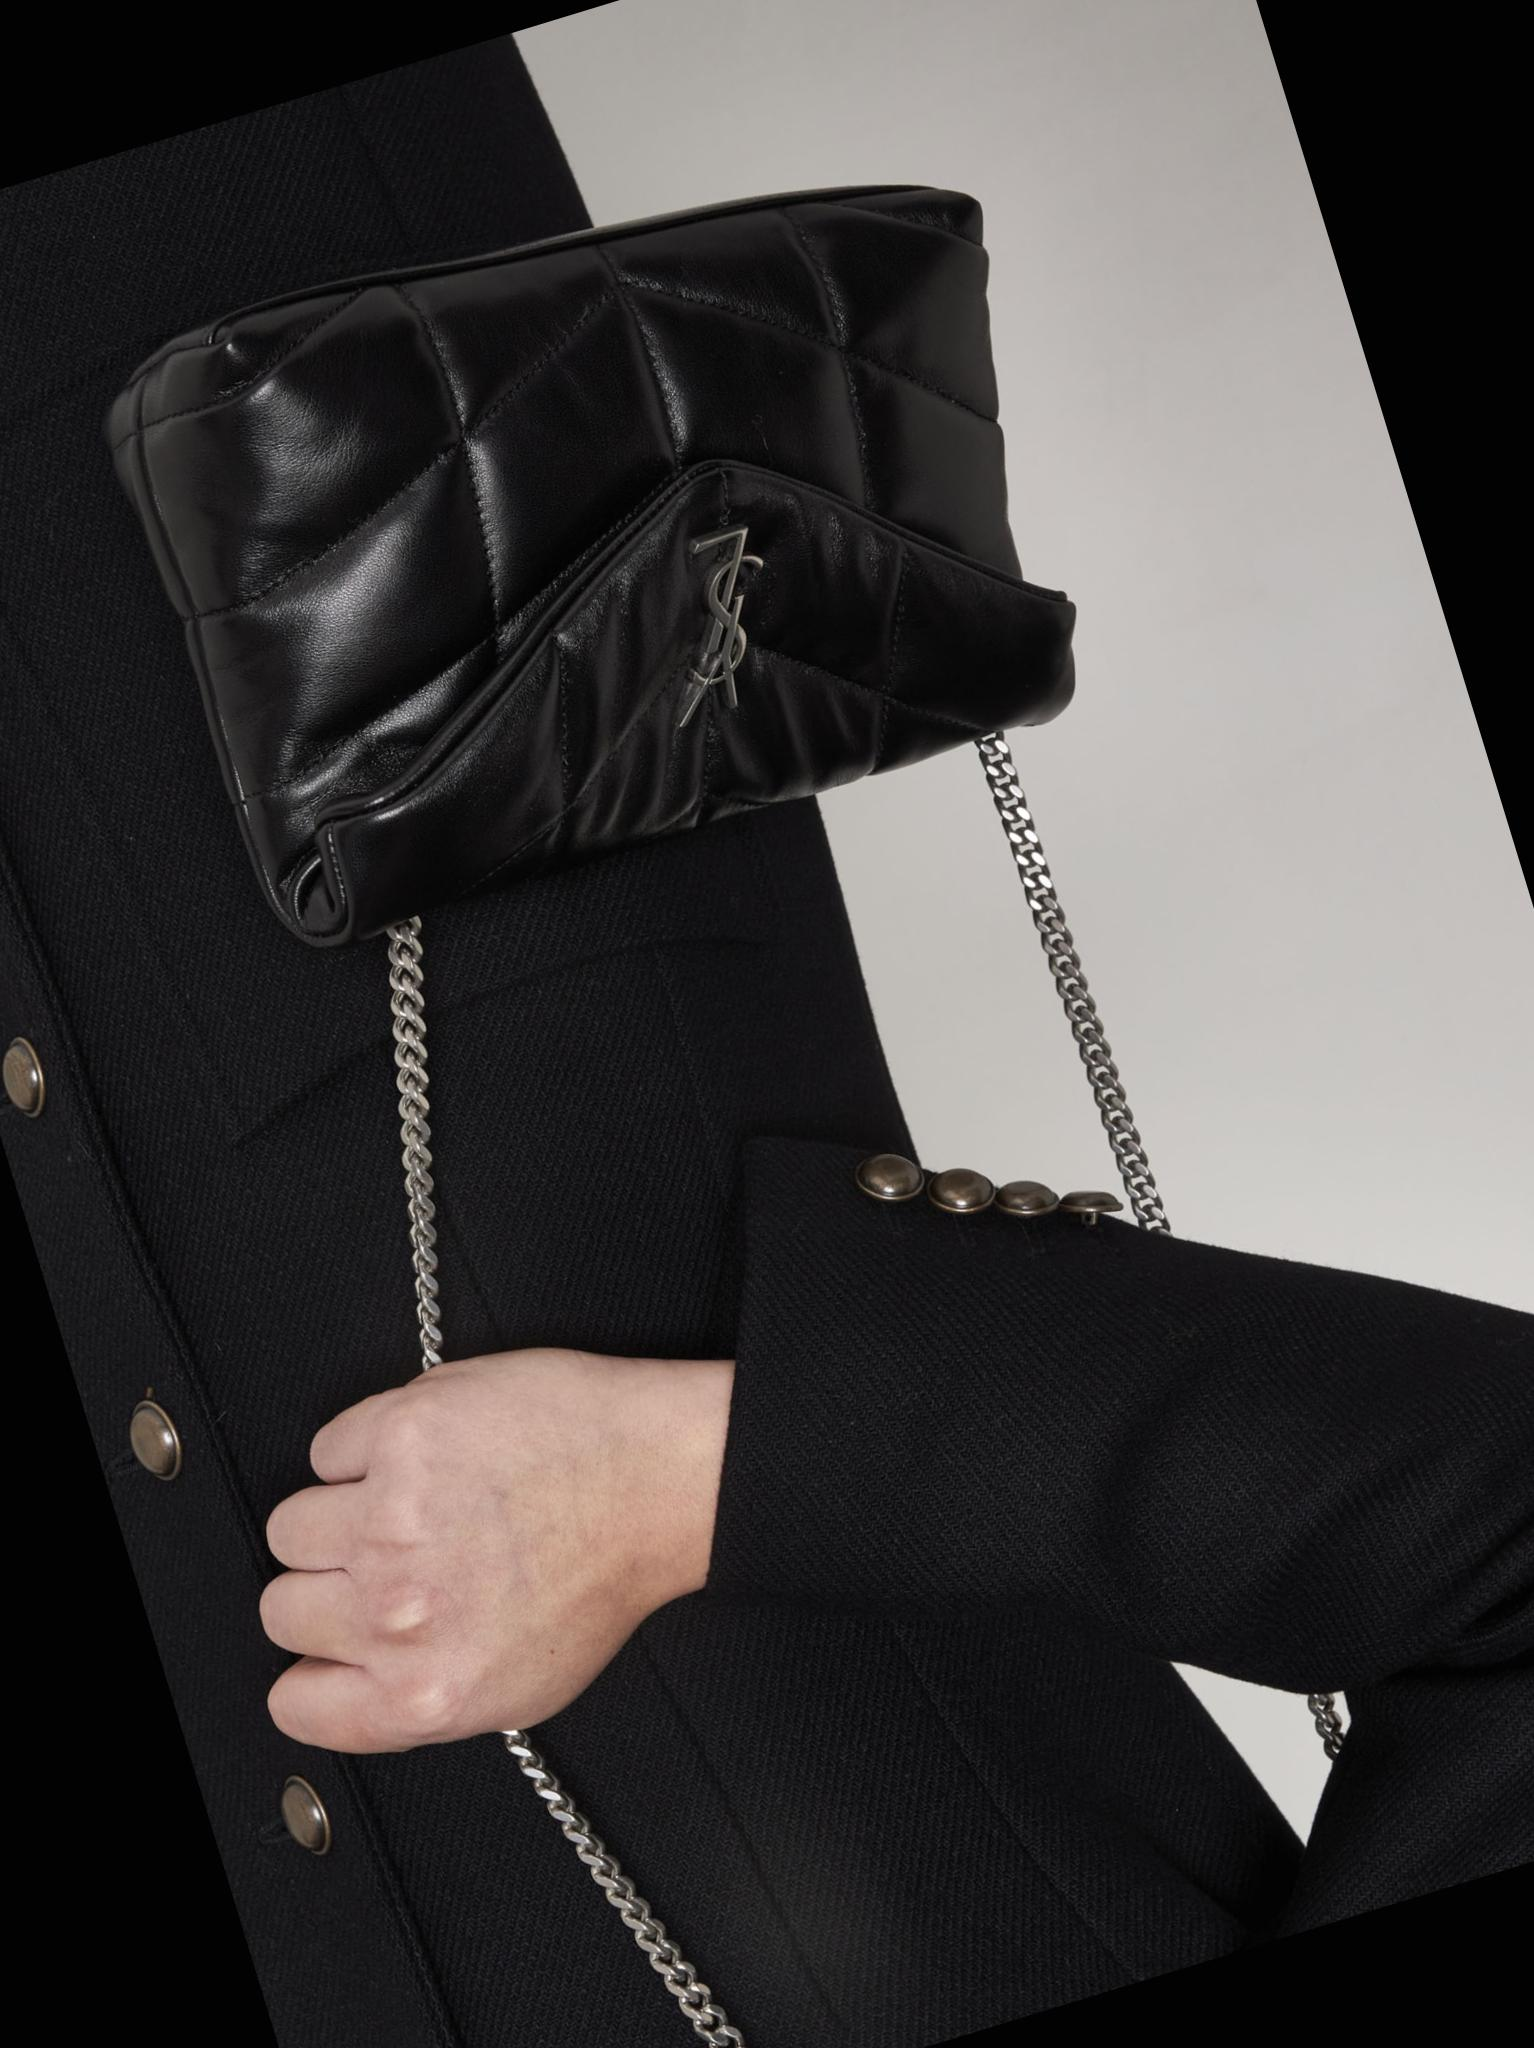YVES-SAINT-LAURENT: (622, 519, 802, 727)
